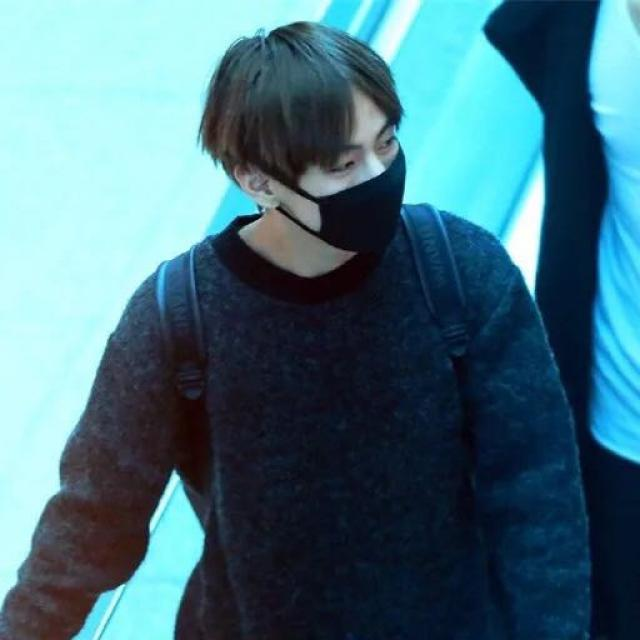mask: (284, 85, 404, 247)
